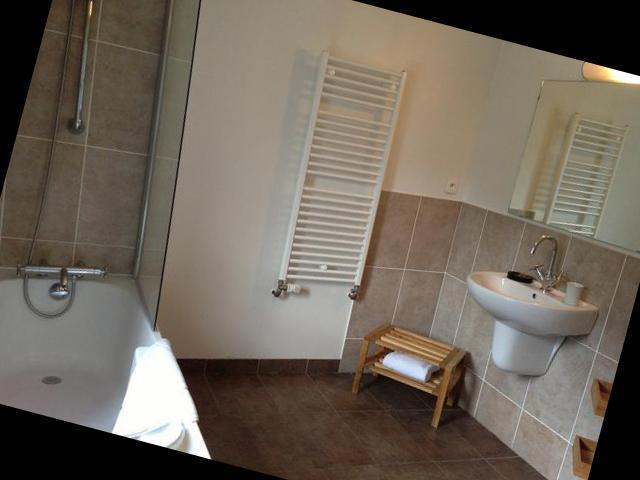Ducha: (0, 0, 214, 328)
Lavamanos: (442, 216, 611, 395)
